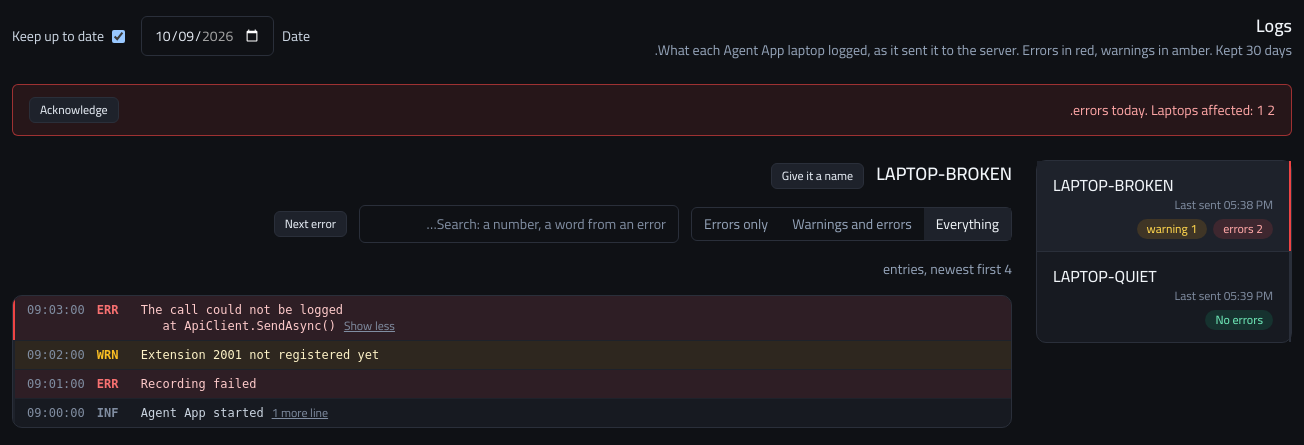
Test case: logs page › does not keep the last day on screen for a date the laptop has none
The width and height of the screenshot is (1304, 445).
Expected: the text "The call could not be logged" is shown, left=141, top=303, right=343, bottom=333
Step 1. Click the button "LAPTOP-QUIET Last sent 05:39 PM No errors" → (1164, 296), box left=1037, top=251, right=1291, bottom=342
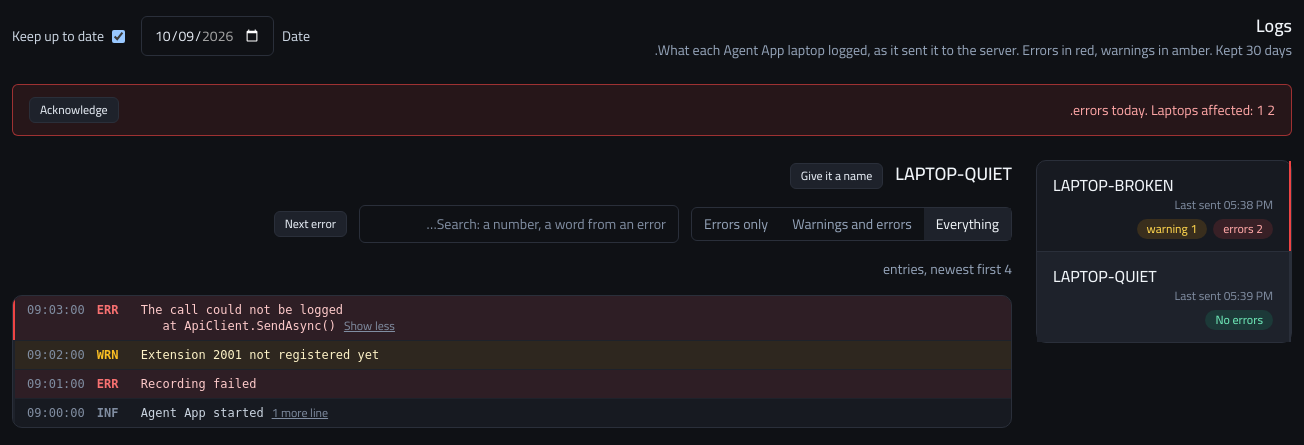
Expected: the button "Next error" is enabled, left=274, top=211, right=347, bottom=237
Step 2. Type "2026-01-01" into the date field labelled "Date" → (208, 36), box left=141, top=16, right=274, bottom=56
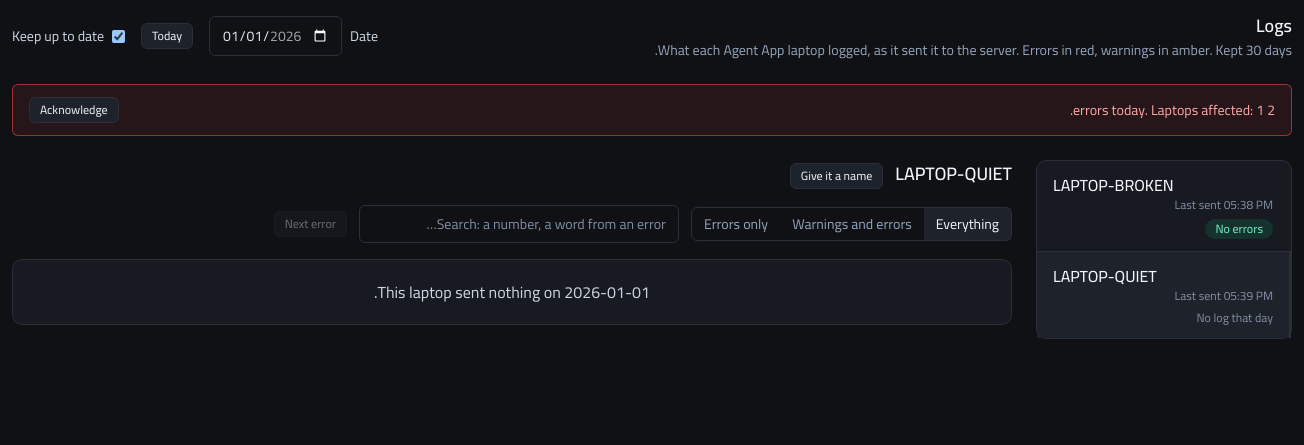
Result: the text "This laptop sent nothing on 2026-01-01." is shown at left=374, top=277, right=650, bottom=307
Result: the text "The call could not be logged" is gone
Result: the button "Next error" is disabled at left=274, top=211, right=347, bottom=237
